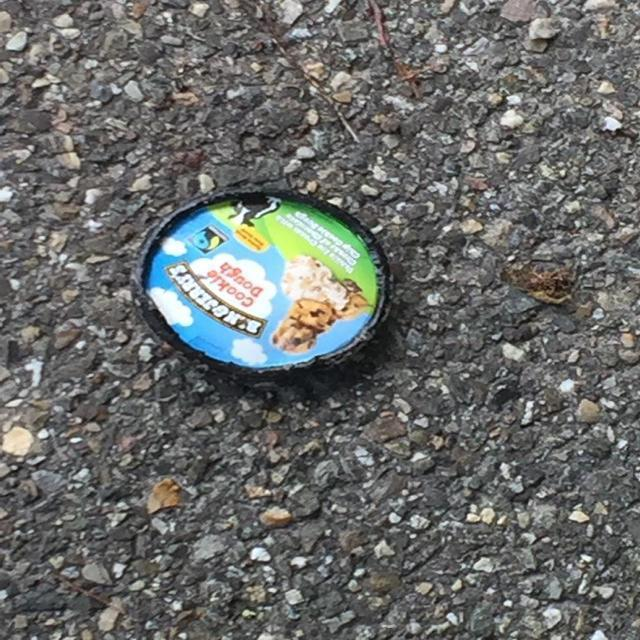Paper: (130, 187, 398, 384)
